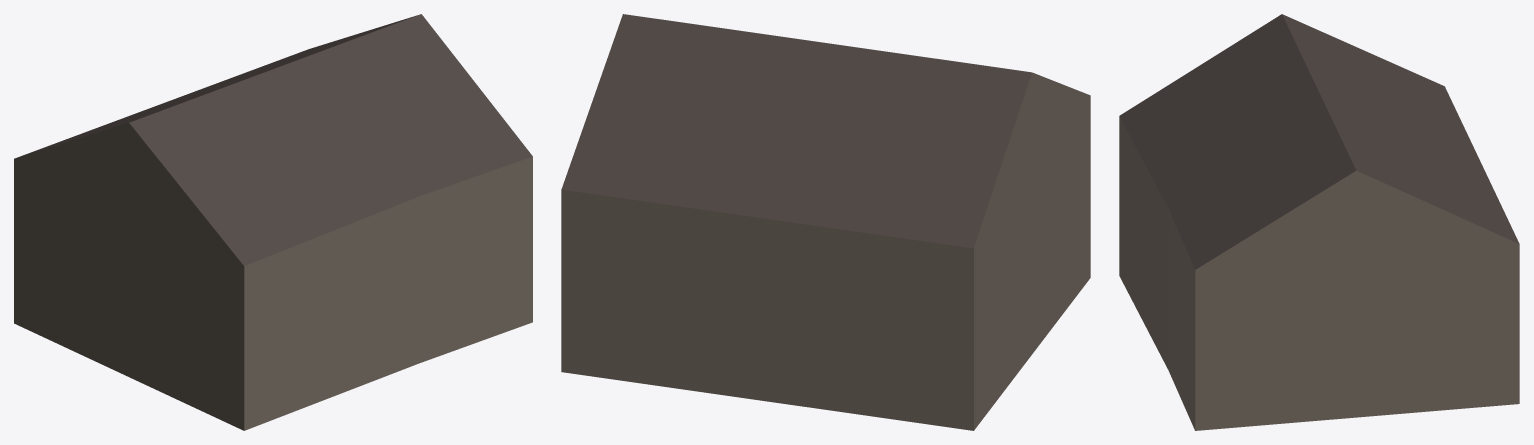
3 views of the same model, side by side, from view 1: azimuth 30°, elevation 25°; view 2: azimuth 150°, elevation 25°; view 3: azimuth 270°, elevation 25° (orthographic). The views are drawn at different scales.
Visible parts, largest first — view 1: HP-w1197839033; view 2: HP-w1197839033; view 3: HP-w1197839033.
Part boxes in pixels (x1,y1,x2,y2): HP-w1197839033: (14,14,532,430); HP-w1197839033: (561,14,1090,430); HP-w1197839033: (1119,14,1519,430).
Size of the model in its own units: 14.88 by 9.27 by 13.63.
